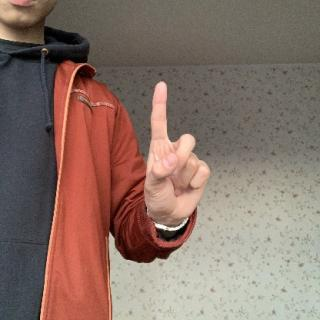BAA: (142, 76, 215, 232)
